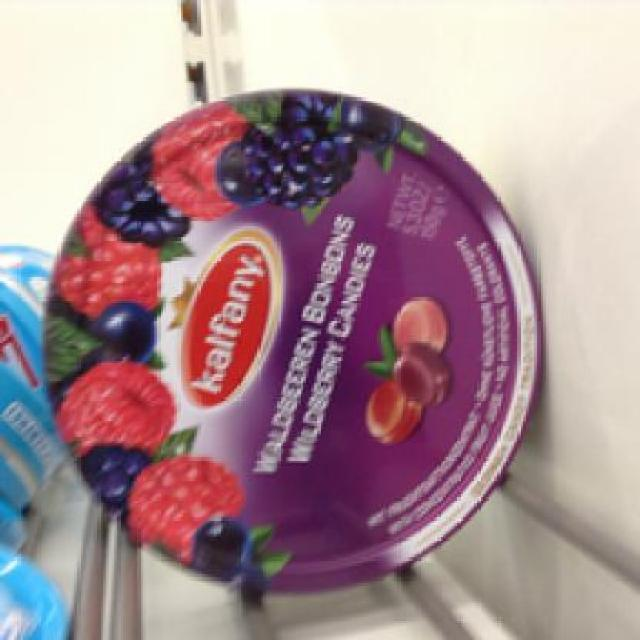Candy: (36, 88, 532, 574)
